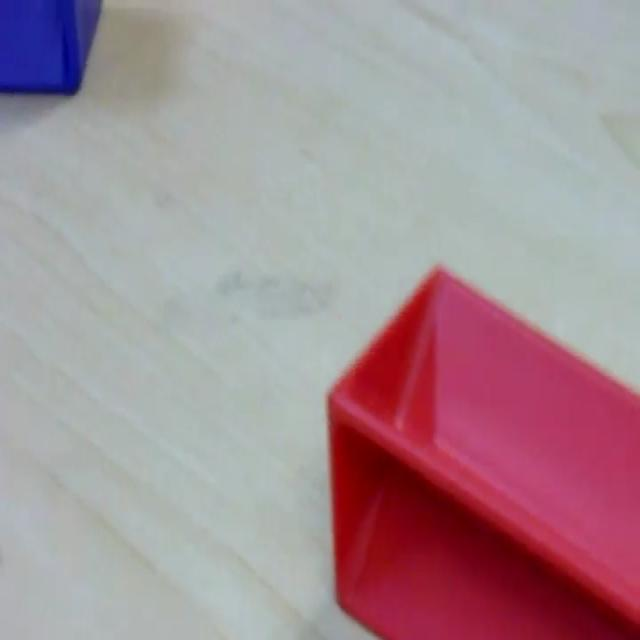red_block: (325, 262, 638, 638)
